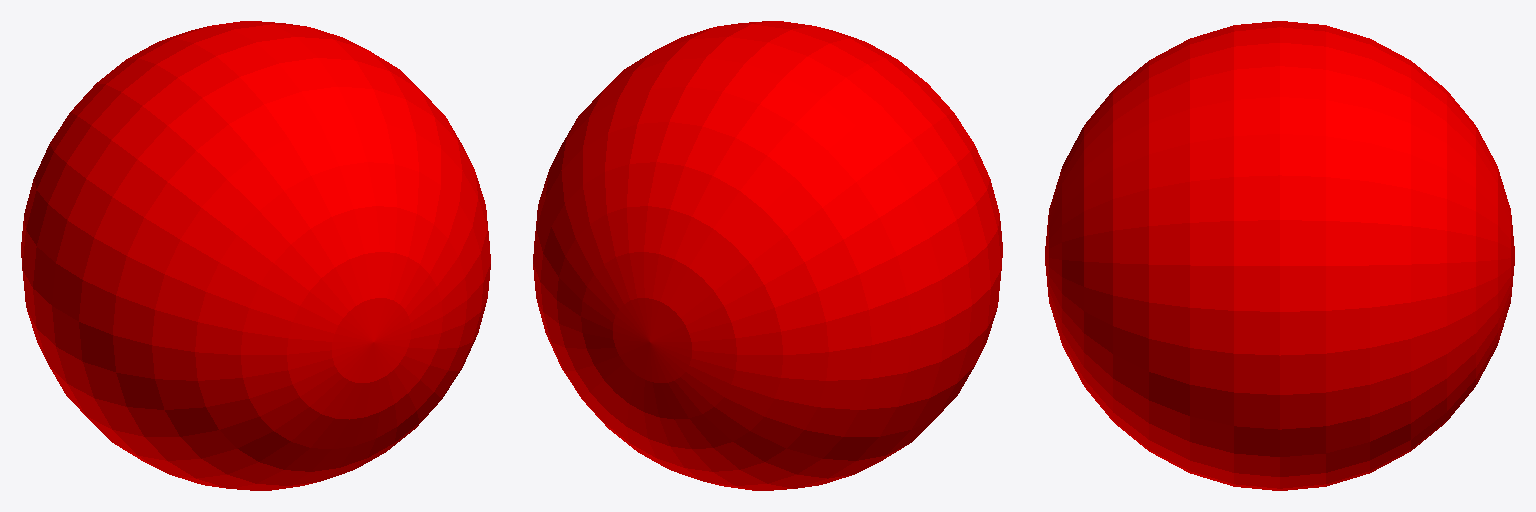
The robot description file, URDF, robot "light":
<?xml version="1.0" ?>
<robot name="light">
  <link name="baseLink">
    <inertial>
      <origin rpy="0 0 0" xyz="0 0 0"/>
       <mass value="0.0"/>
       <inertia ixx="0" ixy="0" ixz="0" iyy="0" iyz="0" izz="0"/>
    </inertial>
    <visual>
      <origin rpy="0 0 0" xyz="0 0 0.8"/>
      <geometry>
				<mesh filename="sphere.obj" scale="0.22 0.22 0.22"/>      
      </geometry>
      <material name="red">
        <color rgba="1 0 0 0.8"/>
        <!-- <specular rgb="11 1 1"/> -->
      </material>
    </visual>
    <!-- <collision>
      <origin rpy="0 0 0" xyz="0 0 0"/>
      <geometry>
	    <sphere radius="0.5"/>
      </geometry>
    </collision> -->
  </link>
</robot>

--- Render facts (derived) ---
3 views of the same robot in one strip: view 1: azimuth 30°, elevation 25°; view 2: azimuth 150°, elevation 25°; view 3: azimuth 270°, elevation 25° (orthographic).
Model light with 1 links and 0 joints (none), rooted at baseLink, posed all joints at 0.
Visible links, largest first — view 1: baseLink; view 2: baseLink; view 3: baseLink.
Boxes of the visible links, box(x1,y1,x2,y2) form: baseLink: box(21, 21, 490, 490); baseLink: box(533, 21, 1002, 490); baseLink: box(1045, 21, 1514, 490).
Size in the robot's own frame: 0.44 by 0.44 by 0.44 metres.
Meshes: 1 distinct files referenced, 1 mesh visuals loaded (1 OBJ).